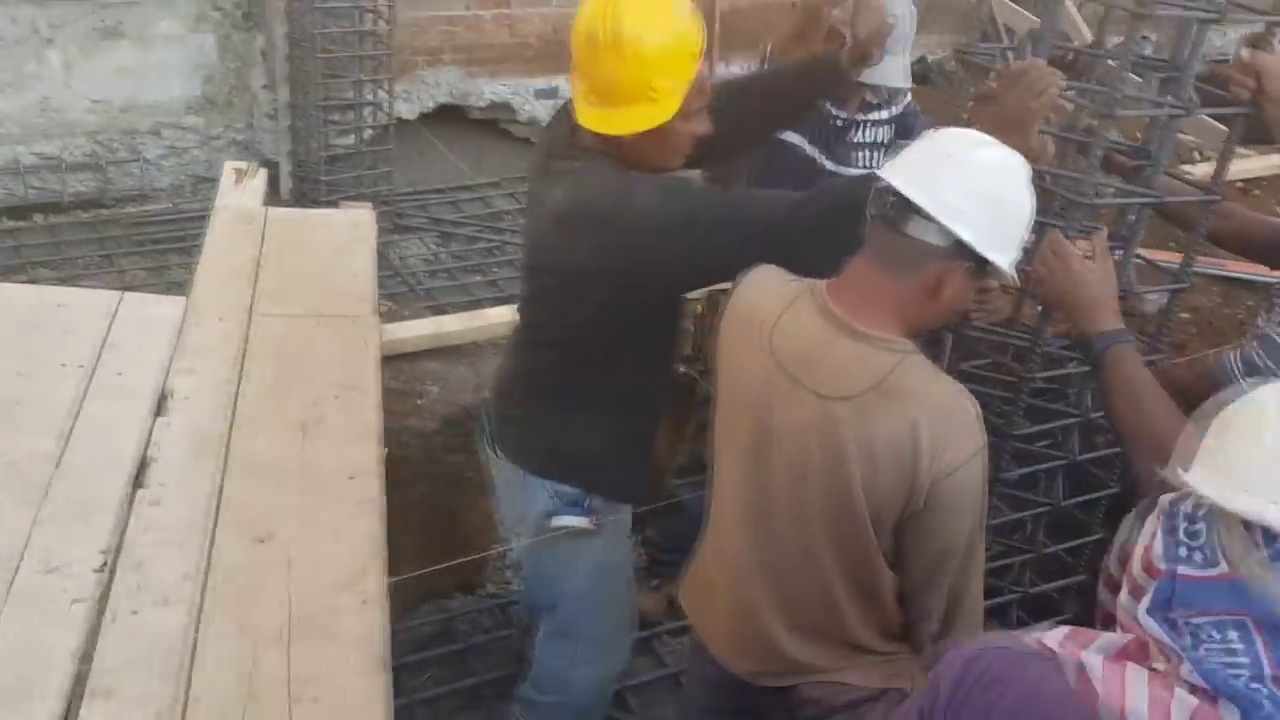helmet: (879, 130, 1039, 287), (562, 4, 705, 136), (1164, 378, 1280, 537)
helmet-on: (819, 127, 1044, 333), (559, 0, 718, 177)
person: (481, 0, 924, 720), (679, 127, 1041, 689), (969, 239, 1280, 668)
